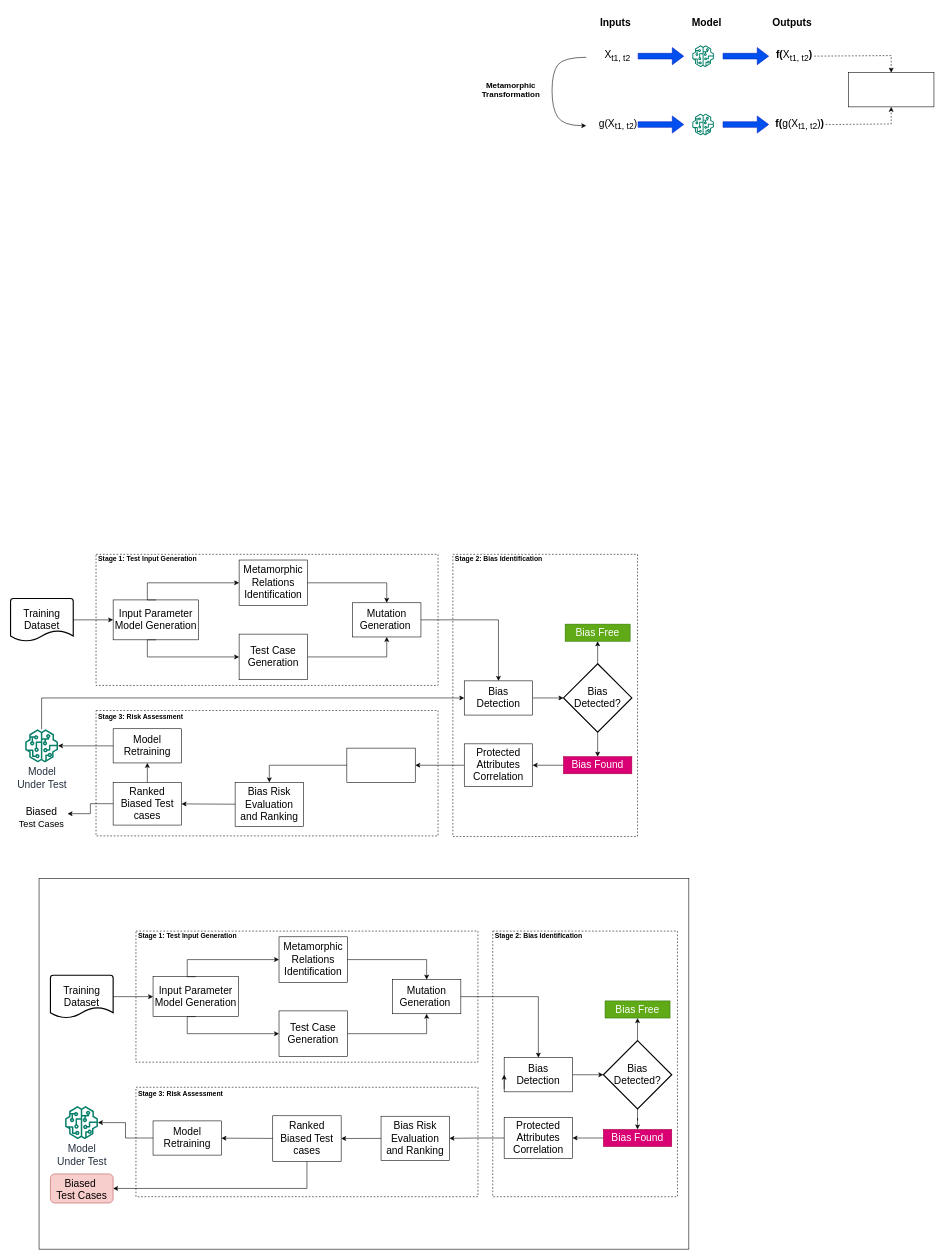
Some shapes in this 944 by 1259 pixel diagram are drawn without their labels. The shapes that lost their labels are listed below. From the top down, each one's centre as x and y in pixels, then its label:
At [891,89]: "Compare Pass/Fail".
At [380,765]: "Bias Risk Analysis".
